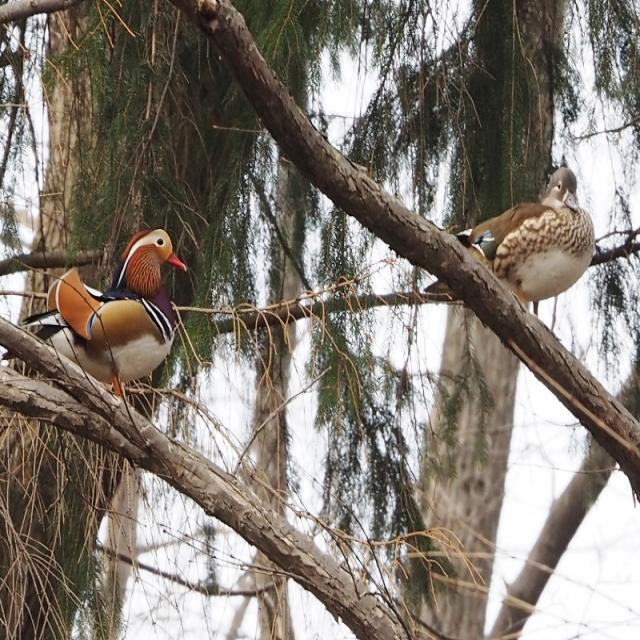bird: (28, 214, 190, 426), (460, 159, 597, 338)
